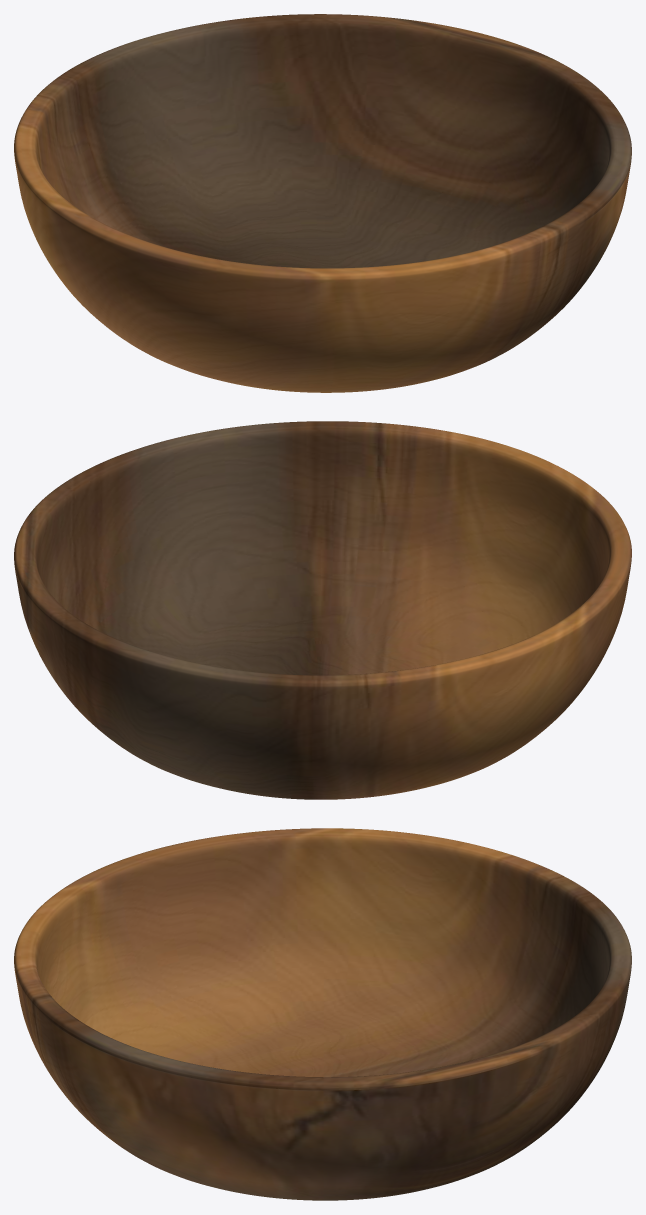
File: bowl_1.glb
3 views of the same model, one above another, from view 1: azimuth 30°, elevation 25°; view 2: azimuth 150°, elevation 25°; view 3: azimuth 270°, elevation 25° (orthographic).
Parts seen in each view (by area): view 1: bowl_1__body; view 2: bowl_1__body; view 3: bowl_1__body.
Boxes of the visible parts, <box> form: bowl_1__body: <box>14,14,631,392</box>; bowl_1__body: <box>14,421,631,799</box>; bowl_1__body: <box>14,828,631,1200</box>.
Bounding box in the file's own units: 0.2781 × 0.0891 × 0.2821.
1 material, 1 textured.
